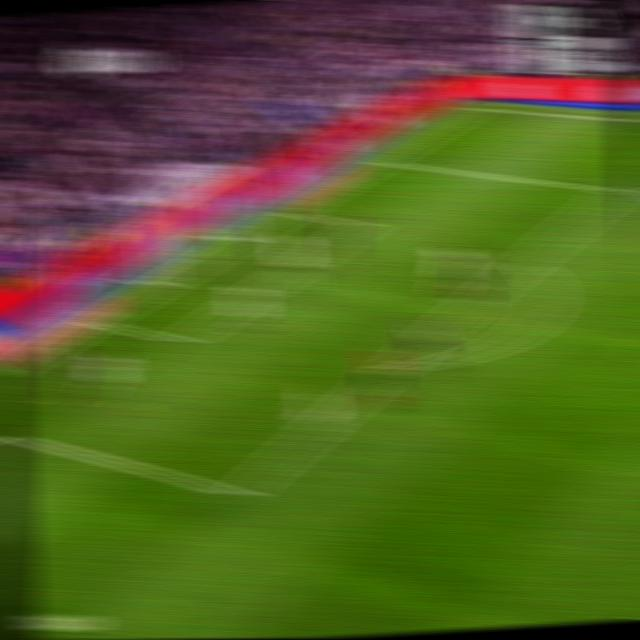bigarea_bottom_inner: (223, 476, 256, 509)
bigarea_top_inner: (603, 179, 633, 200)
bigarea_top_outter: (368, 152, 393, 166)
bottom_arc_area_intersection: (381, 356, 410, 376)
corner: (456, 99, 487, 113)
smallarea_top_inner: (351, 219, 376, 231)
top_arc_area_intersection: (511, 252, 541, 272)
